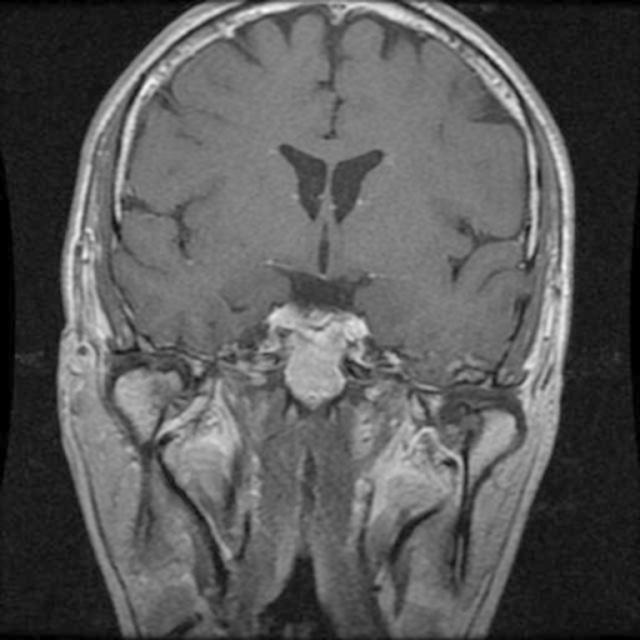no tumor: (274, 300, 350, 412)
